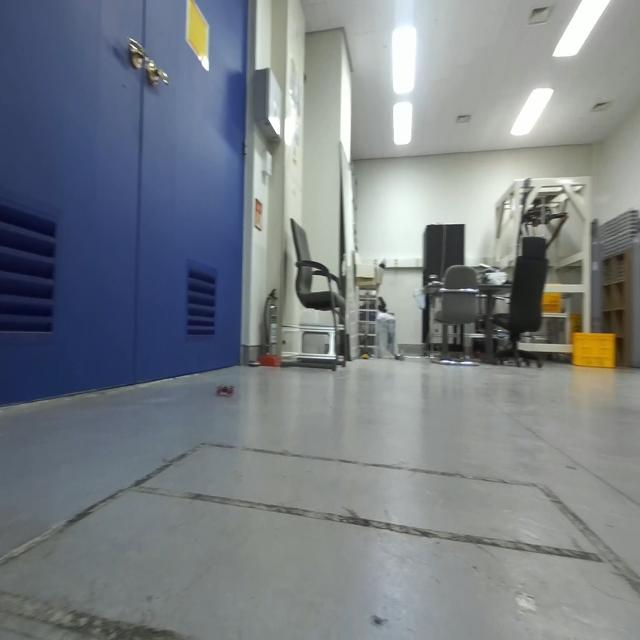crazyflie: (210, 379, 238, 404)
